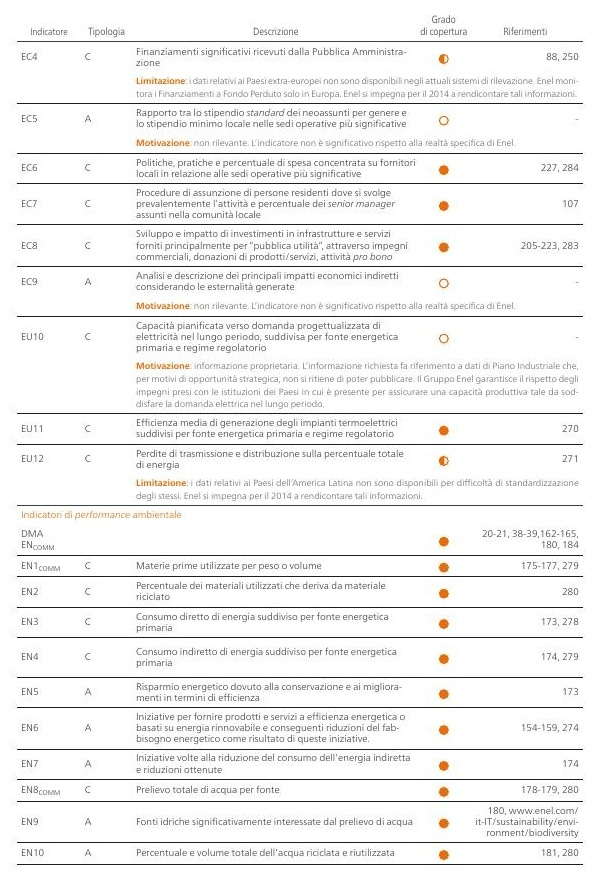table: (0, 0, 602, 883)
